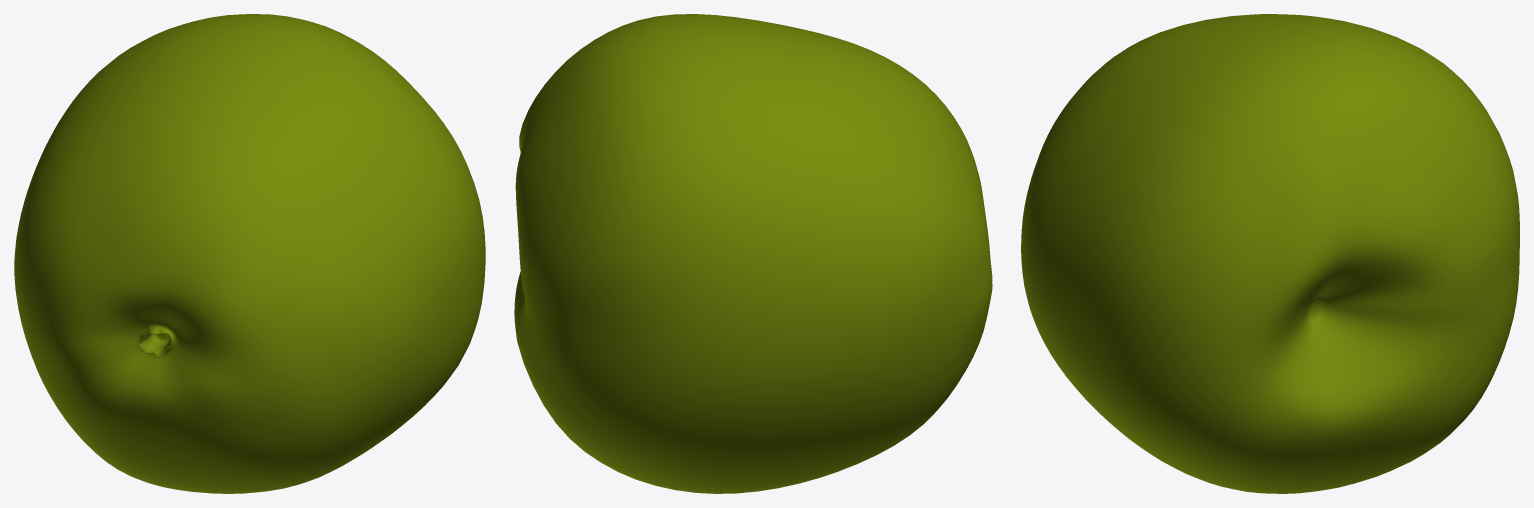
The model's file is single_apple.obj.
3 renders of one model, left to right at view 1: azimuth 30°, elevation 25°; view 2: azimuth 150°, elevation 25°; view 3: azimuth 270°, elevation 25°, orthographic. The views are drawn at different scales.
Parts seen in each view (by area): view 1: APLLE018; view 2: APLLE018; view 3: APLLE018.
Boxes of the visible parts, x1=… form: APLLE018: x1=14, y1=14, x2=485, y2=493; APLLE018: x1=514, y1=14, x2=992, y2=493; APLLE018: x1=1021, y1=14, x2=1519, y2=493.
Size of the model in its own units: 7.76 by 7.46 by 7.6.
